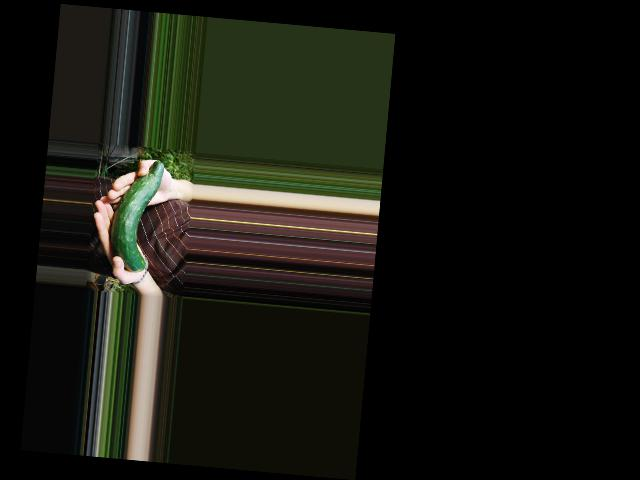cucumber: (107, 157, 164, 274)
